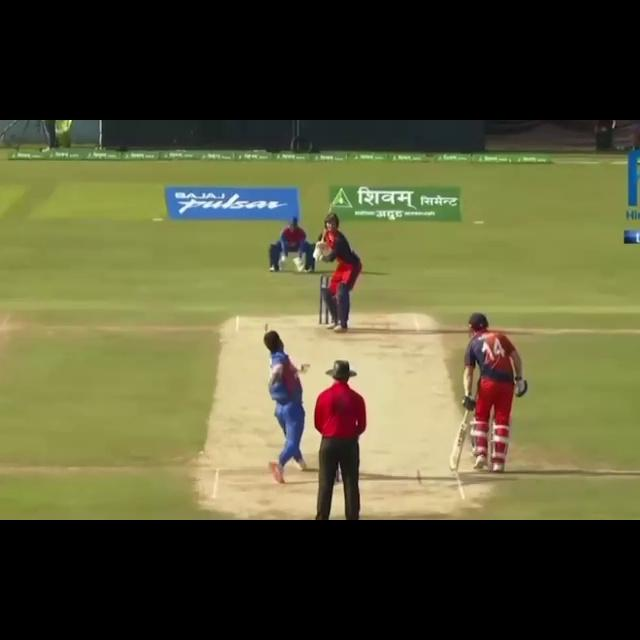umpire: (306, 358, 377, 520)
